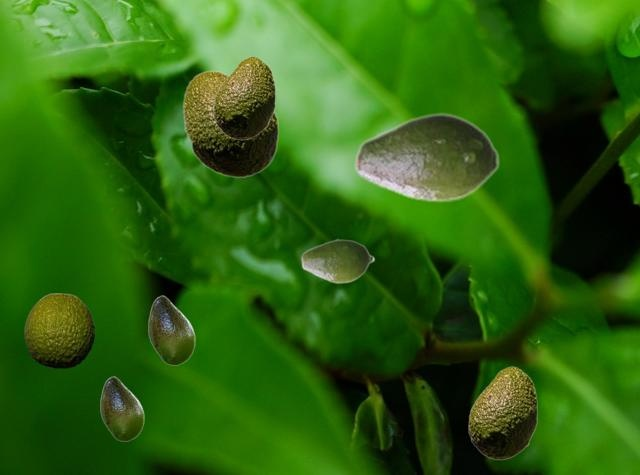avocado: (354, 112, 499, 202), (182, 70, 278, 177), (468, 366, 536, 459), (24, 293, 93, 367), (213, 56, 274, 139), (300, 238, 374, 283), (148, 295, 194, 364), (100, 376, 143, 440)
